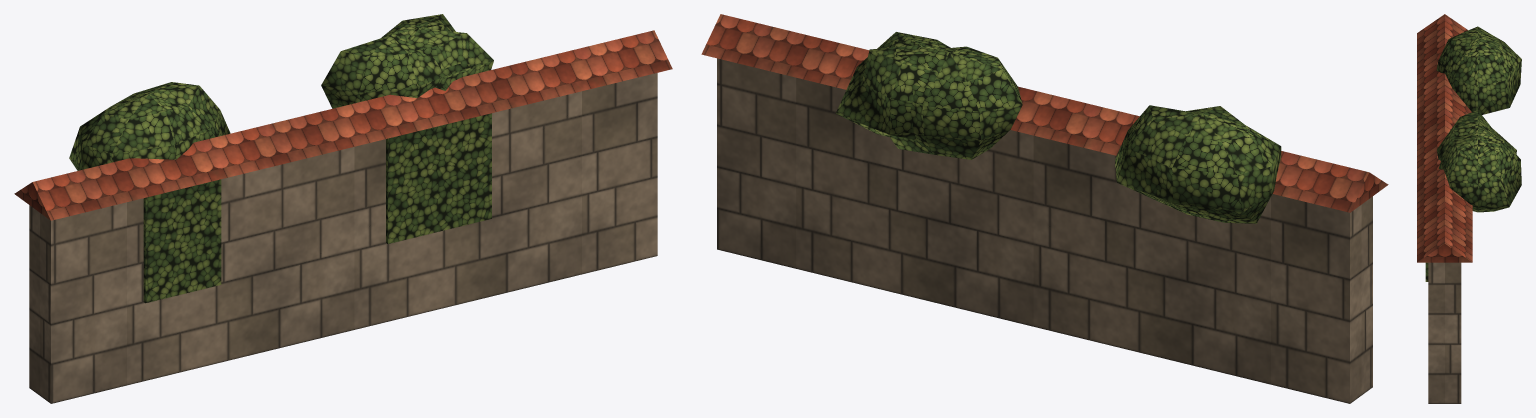
File: garden_wall.gltf
3 renders of one model, left to right at view 1: azimuth 30°, elevation 25°; view 2: azimuth 150°, elevation 25°; view 3: azimuth 270°, elevation 25°, orthographic. The views are drawn at different scales.
Visible parts, largest first — view 1: garden_wall_mesh; view 2: garden_wall_mesh; view 3: garden_wall_mesh.
Part boxes in pixels (bbox=[...]): garden_wall_mesh: bbox=[14, 14, 672, 403]; garden_wall_mesh: bbox=[701, 14, 1388, 403]; garden_wall_mesh: bbox=[1417, 14, 1521, 403].
Size of what is drawn, in the model's own units: 8.2 by 3.2 by 1.58.
Materials: 3 (3 with a texture image).
